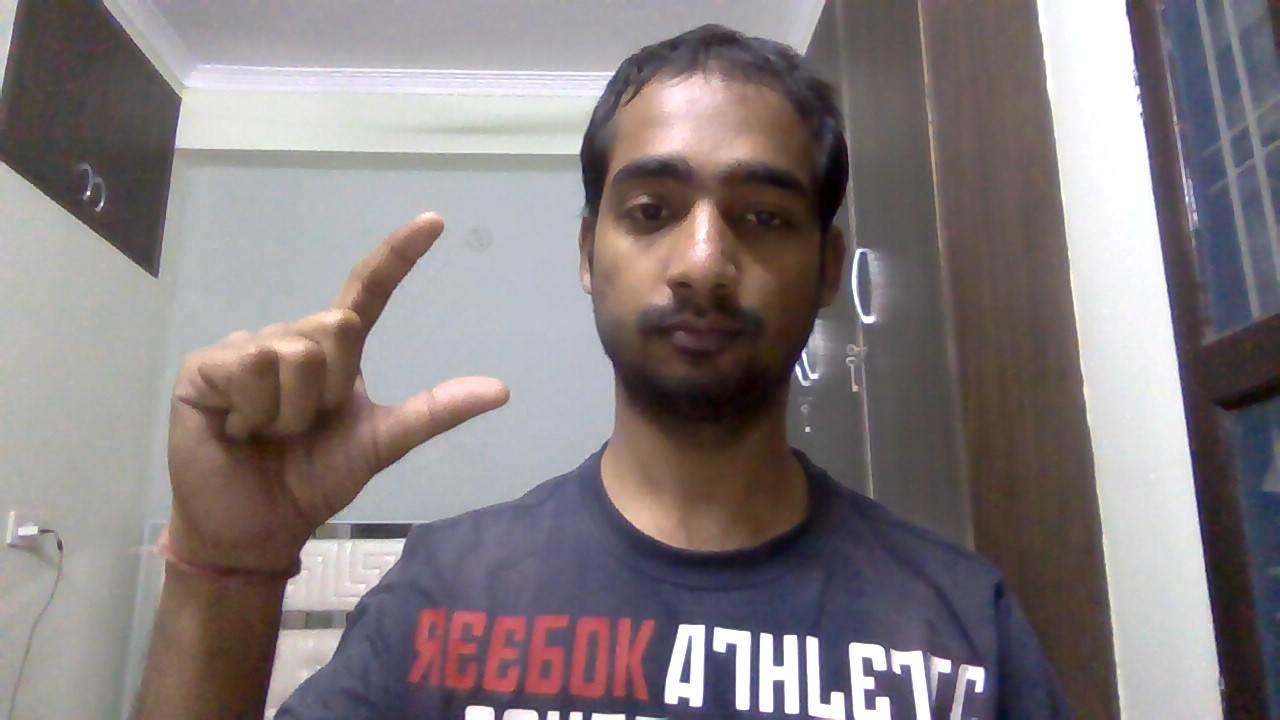Paste: (159, 202, 521, 588)
